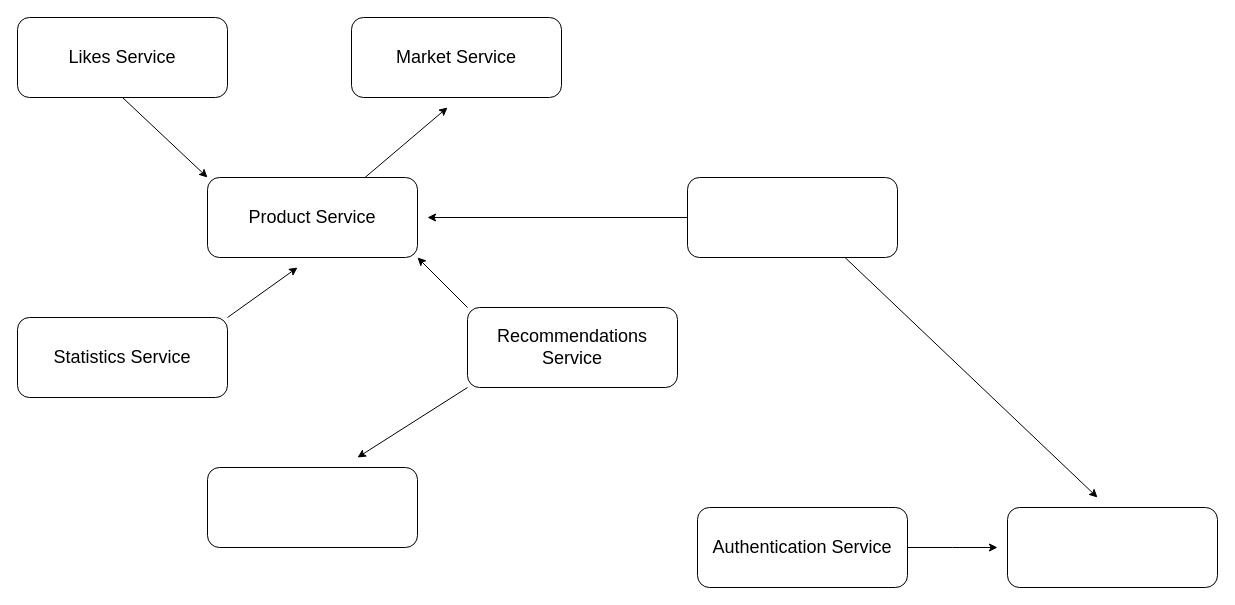
Image size: 1235x605. Some labels were removed from this diagram. The shapes that lost their labels are listed below. From the top down, each one's centre as x and y in pixels, then its label:
At point 792,217: "Reviews Service".
At point 312,507: "News Service".
At point 1112,547: "Users Service".
